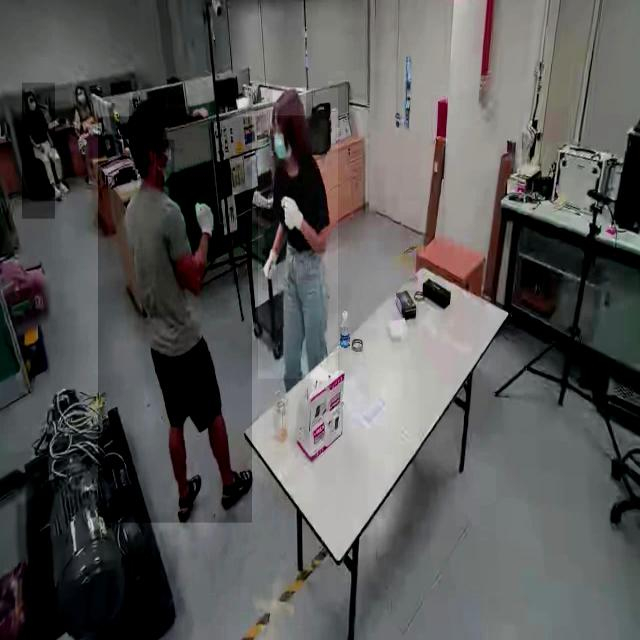face_mask: (274, 118, 292, 169), (156, 140, 174, 187), (29, 95, 36, 119)
hand_glove: (282, 187, 304, 239), (192, 200, 216, 243), (262, 248, 278, 292)
head_nohelmet: (272, 87, 306, 117), (128, 100, 166, 122), (24, 90, 34, 95)
person: (98, 116, 252, 524), (258, 88, 338, 380), (21, 82, 55, 220)
